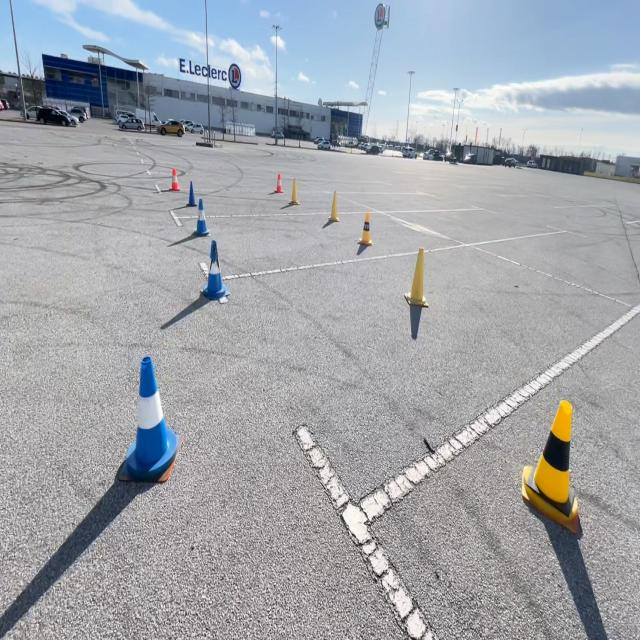blue_cone: (116, 353, 180, 483), (200, 238, 230, 300), (194, 198, 208, 241), (186, 178, 197, 206)
orange_cone: (169, 166, 181, 191), (274, 170, 284, 193)
yellow_cone: (519, 396, 581, 532), (404, 244, 428, 305), (357, 209, 373, 246), (325, 188, 340, 223), (288, 177, 300, 205)
